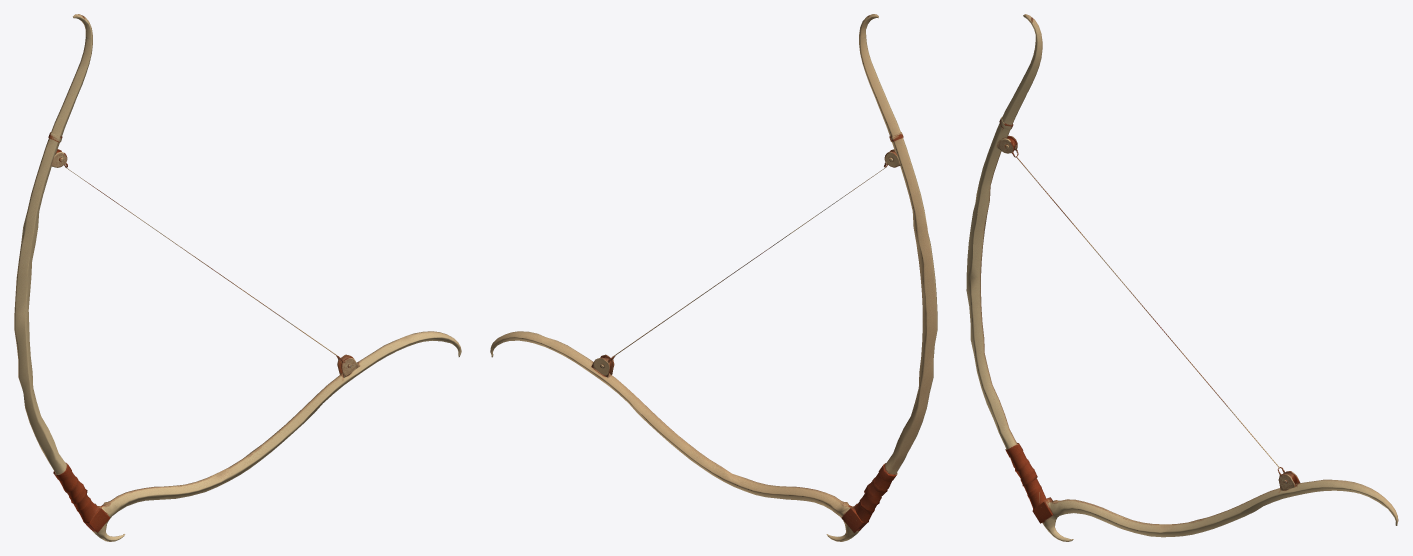
Rendered from bow_refine.glb.
3 views of the same model, side by side, from view 1: azimuth 30°, elevation 25°; view 2: azimuth 150°, elevation 25°; view 3: azimuth 330°, elevation 25° (orthographic). The views are drawn at different scales.
Size of the model in its own units: 0.8286 by 0.9507 by 0.0259.
1 material, 1 textured.
